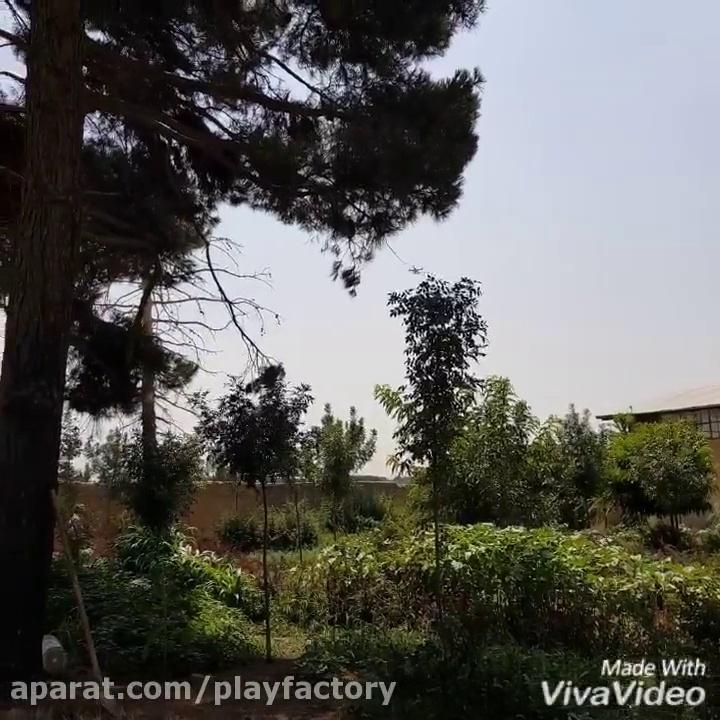drone: (401, 261, 423, 277)
